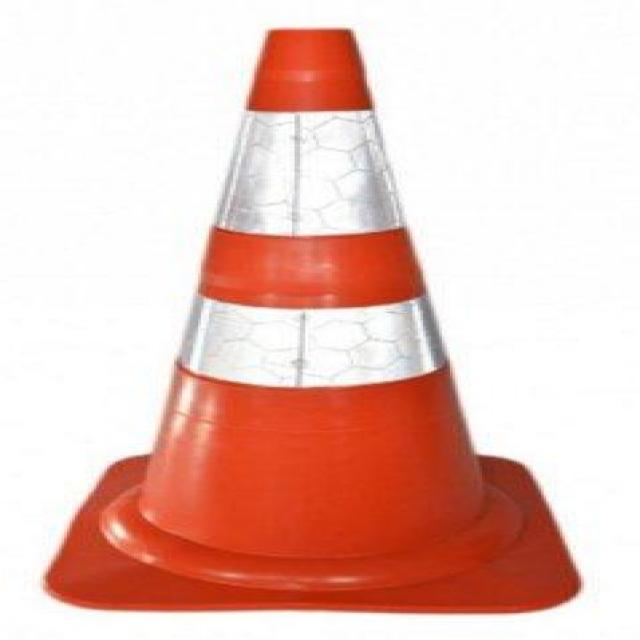cone: (82, 39, 514, 601)
